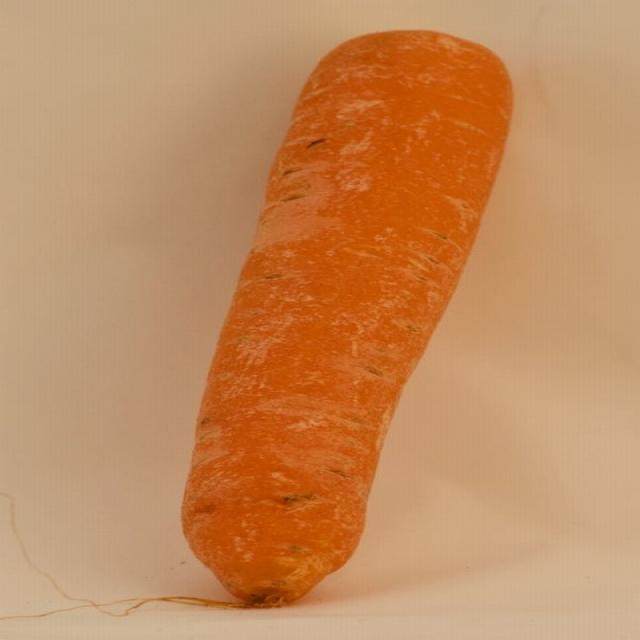Carrot: (187, 26, 515, 596)
